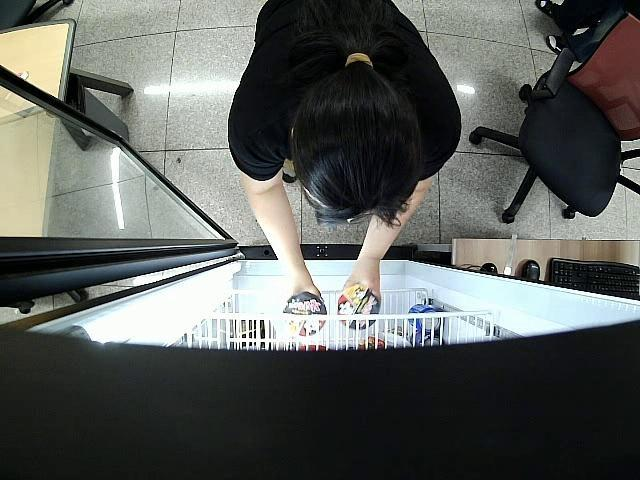08_buldak_S: (284, 292, 326, 337), (339, 284, 380, 329)
